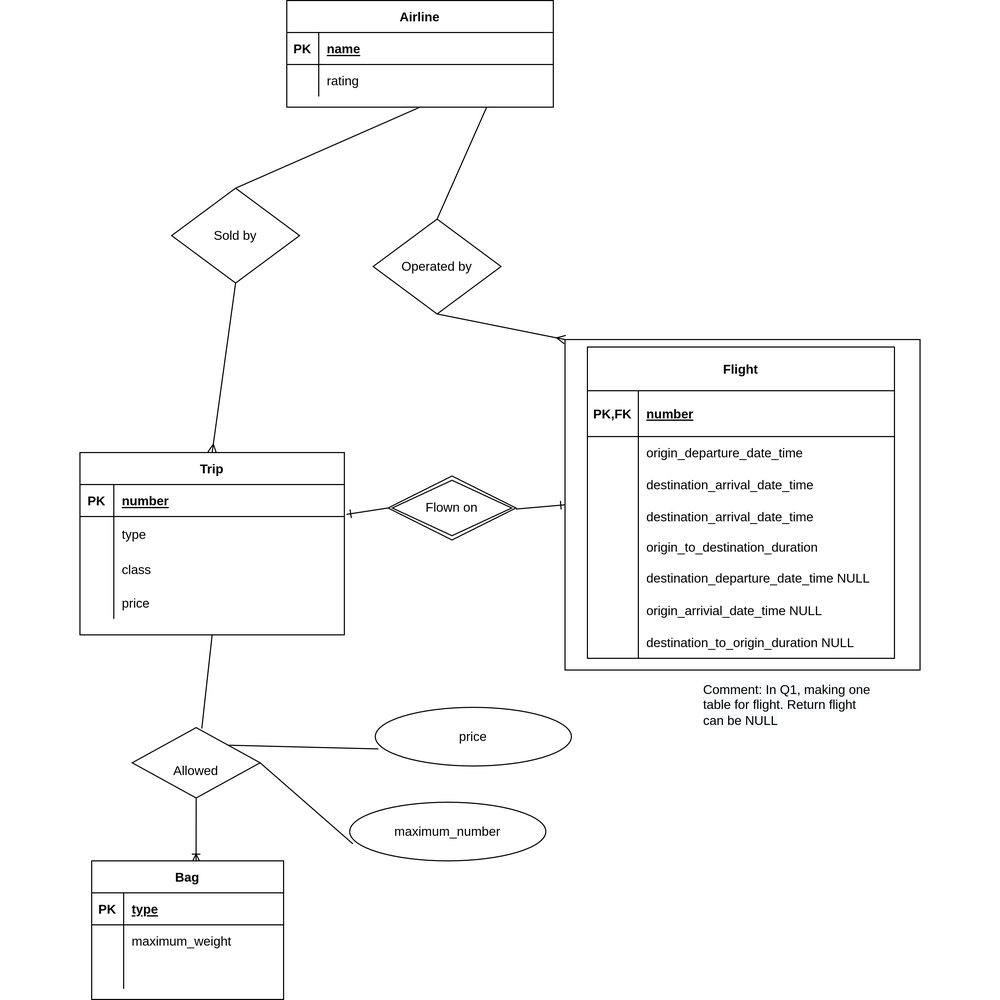attribute: (366, 701, 582, 765), (345, 800, 562, 861)
entity: (561, 330, 925, 676), (72, 448, 360, 642), (85, 854, 300, 1000), (283, 1, 559, 112)
relationship: (364, 213, 514, 320), (171, 189, 299, 281), (374, 468, 526, 544), (127, 727, 279, 803)
